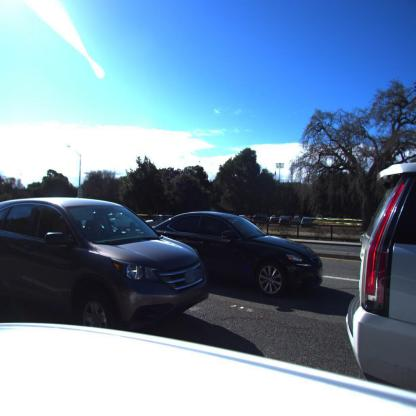car: (0, 197, 208, 331), (344, 154, 416, 412), (146, 212, 325, 296), (275, 215, 296, 226), (302, 217, 314, 226)
